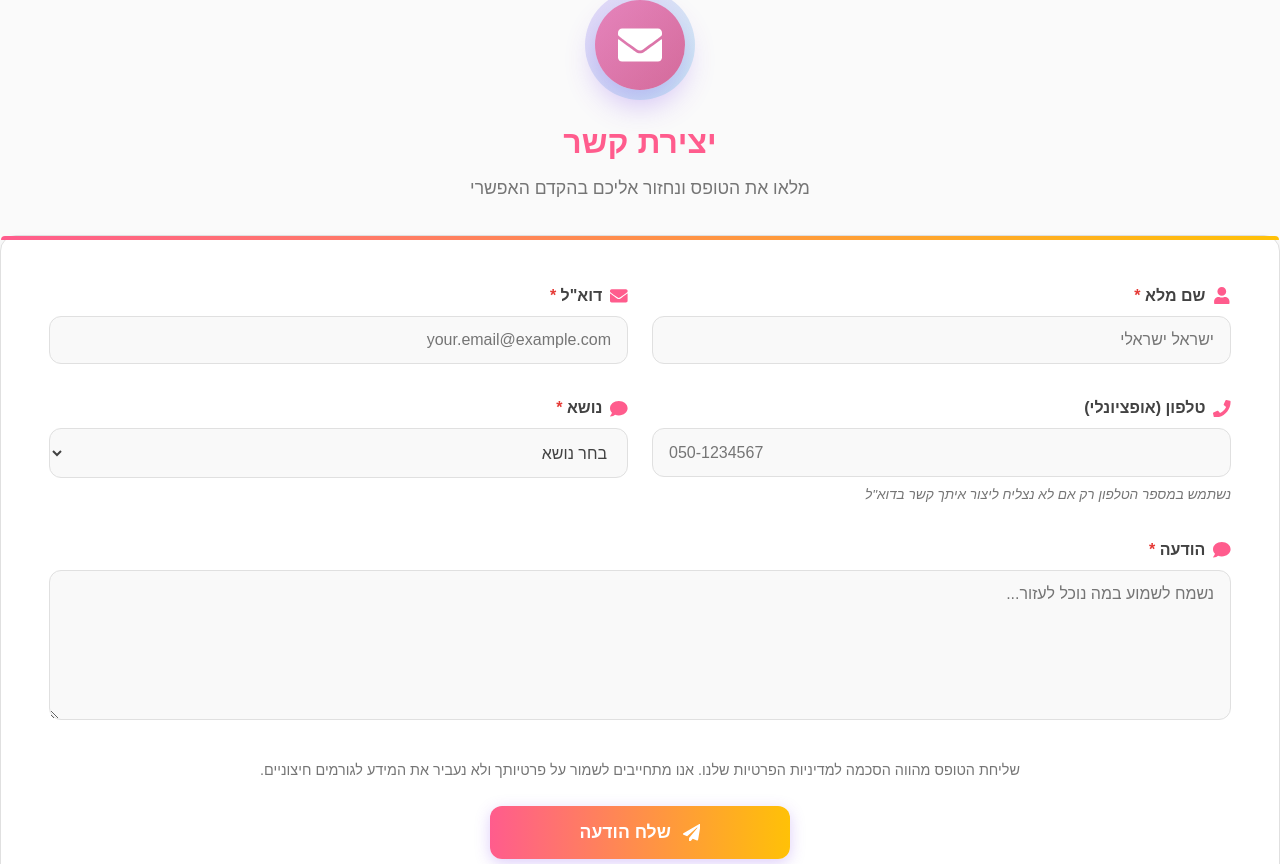
Test case: ContactForm Component › מציג שגיאה כאשר כתובת אימייל אינה תקינה
Type "emailלאחוקי" into the field with placeholder "your.email@example.com" at [338, 340], box [49,316,628,364]
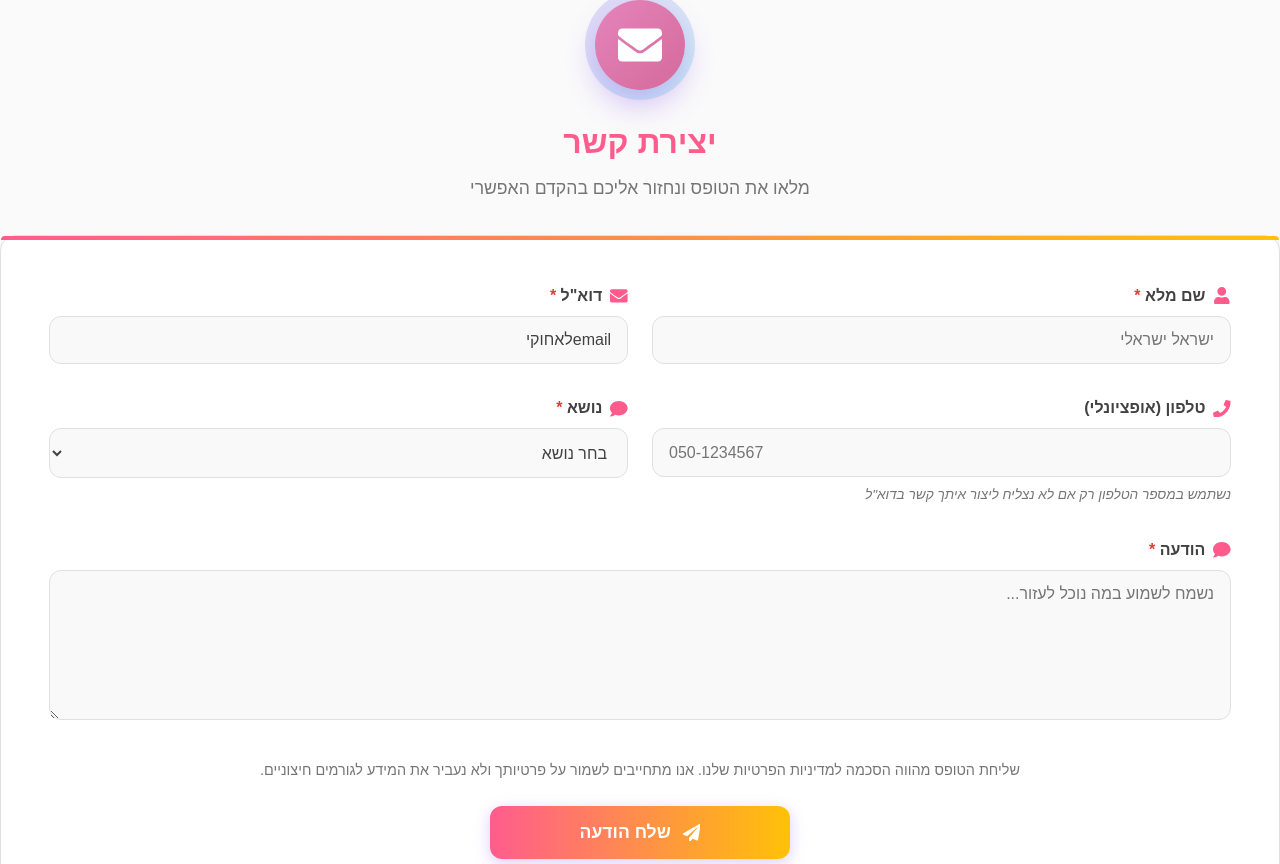
Click the button "שלח הודעה" at [640, 832], box [490,806,790,859]
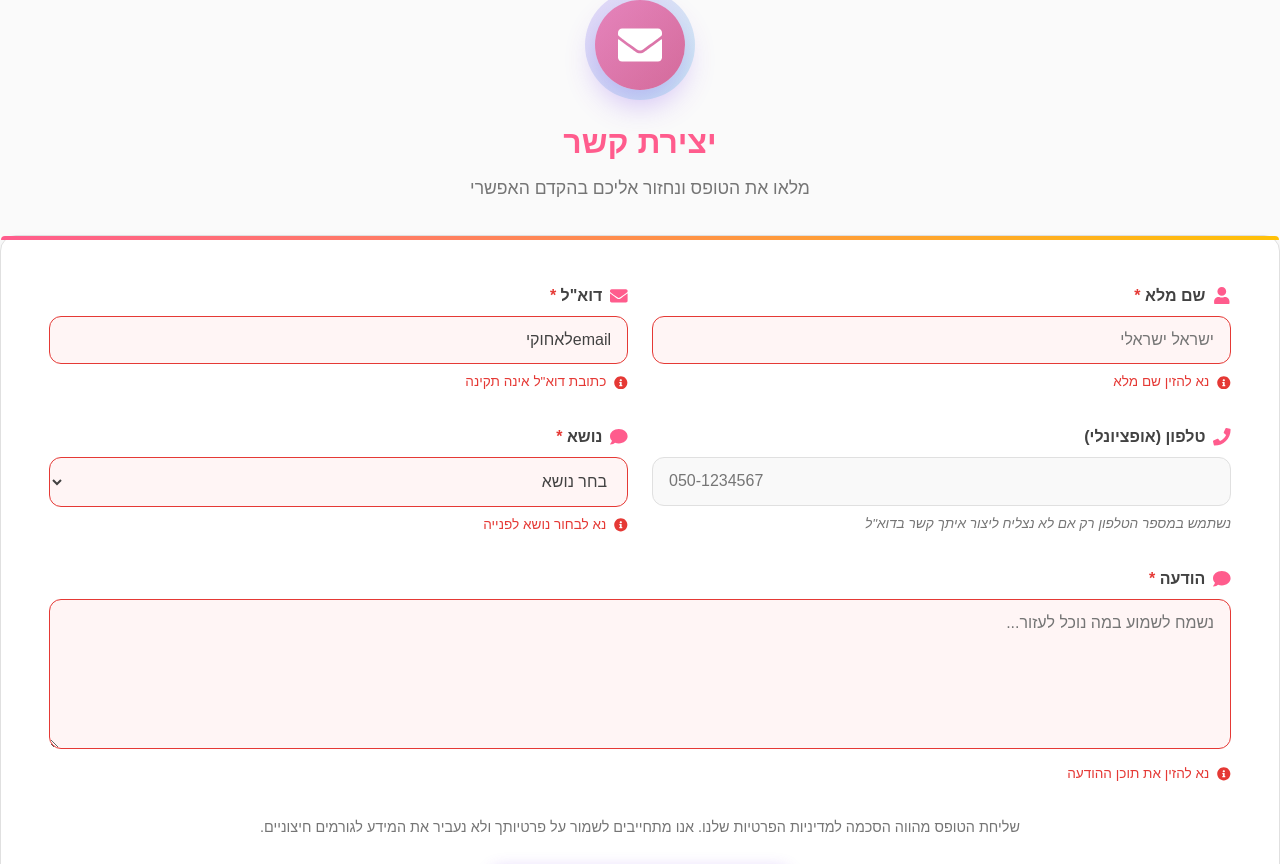
Now the text "כתובת דוא\"ל אינה תקינה" is shown, box [465,374,628,389]
